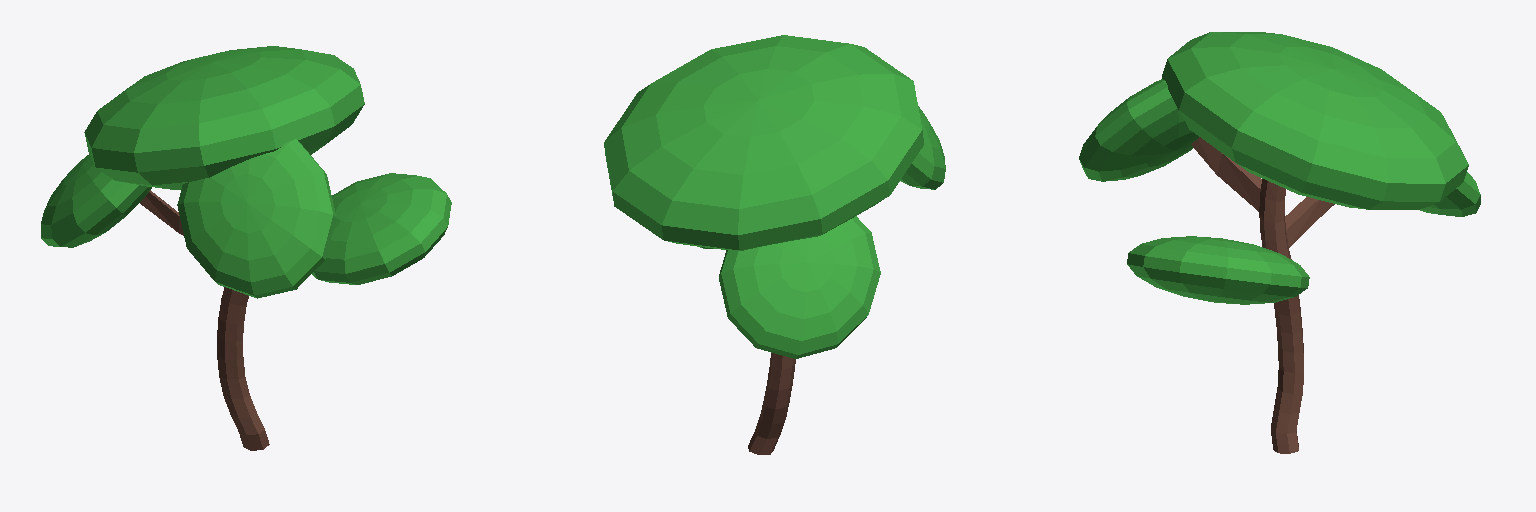
The model's file is model-triangulated.obj.
3 renders of one model, left to right at view 1: azimuth 30°, elevation 25°; view 2: azimuth 150°, elevation 25°; view 3: azimuth 270°, elevation 25°, orthographic.
Visible parts, largest first — view 1: group[number redacted], group[number redacted], group[number redacted], group[number redacted], group[number redacted]; view 2: group[number redacted], group[number redacted], group[number redacted], group[number redacted]; view 3: group[number redacted], group[number redacted], group[number redacted], group[number redacted], group[number redacted].
Part boxes in pixels (left/top/right/bottom): group[number redacted]: left=84, top=46, right=364, bottom=189; group[number redacted]: left=177, top=139, right=336, bottom=298; group[number redacted]: left=312, top=173, right=451, bottom=284; group[number redacted]: left=41, top=154, right=151, bottom=247; group[number redacted]: left=140, top=190, right=269, bottom=450; group[number redacted]: left=604, top=35, right=923, bottom=250; group[number redacted]: left=719, top=216, right=880, bottom=358; group[number redacted]: left=748, top=353, right=795, bottom=454; group[number redacted]: left=900, top=106, right=945, bottom=189; group[number redacted]: left=1162, top=32, right=1468, bottom=209; group[number redacted]: left=1127, top=236, right=1309, bottom=304; group[number redacted]: left=1191, top=137, right=1334, bottom=453; group[number redacted]: left=1079, top=79, right=1198, bottom=181; group[number redacted]: left=1420, top=172, right=1480, bottom=216.
Bounding box in the file's own units: 0.9073 × 1.1 × 1.04.